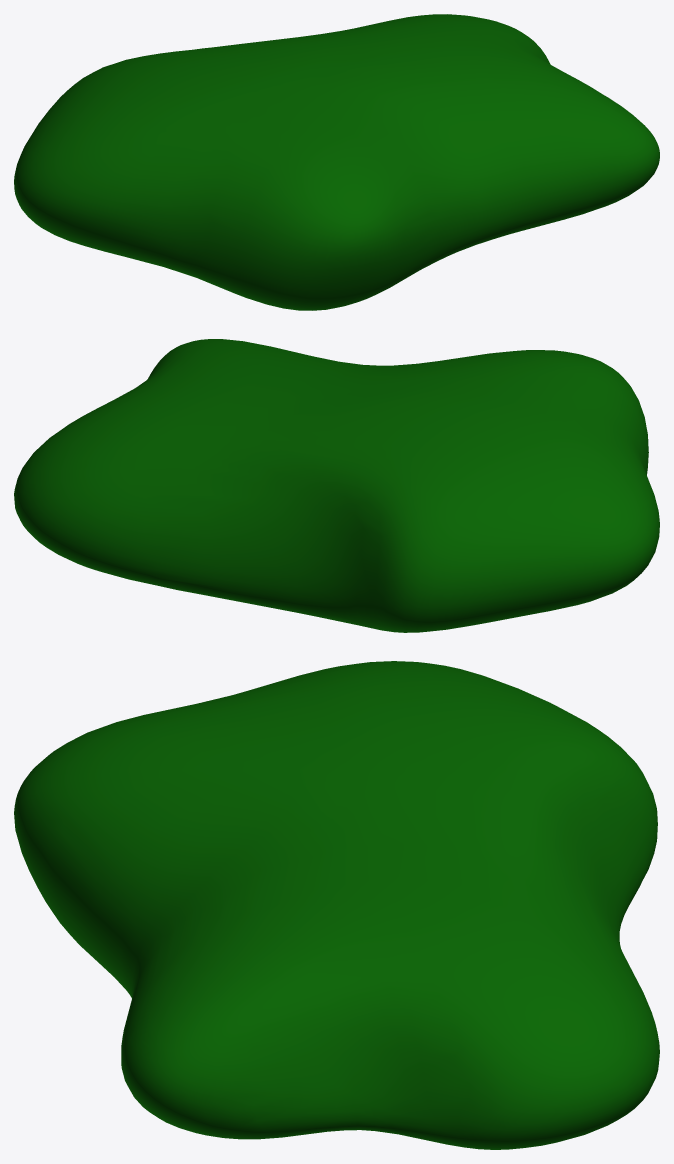
The model's file is Musgo.fbx.
3 views of the same model, one above another, from view 1: azimuth 30°, elevation 25°; view 2: azimuth 150°, elevation 25°; view 3: azimuth 270°, elevation 25° (orthographic). The views are drawn at different scales.
Visible parts, largest first — view 1: Musgo - Low; view 2: Musgo - Low; view 3: Musgo - Low.
Boxes of the visible parts, x1,y1,x2,y2 form: Musgo - Low: (14, 14, 659, 310); Musgo - Low: (14, 339, 659, 632); Musgo - Low: (14, 661, 659, 1149).
Size of the model in its own units: 178 by 48.67 by 130.
